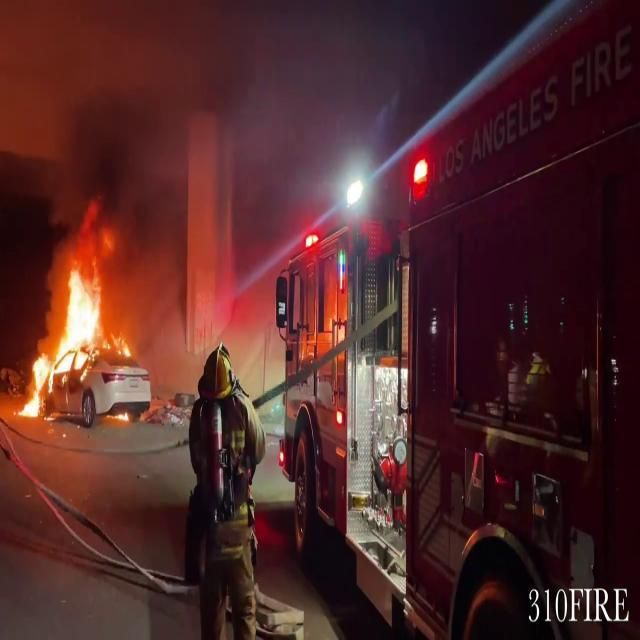Fire: (17, 247, 124, 418)
Smoke: (43, 42, 209, 243)
